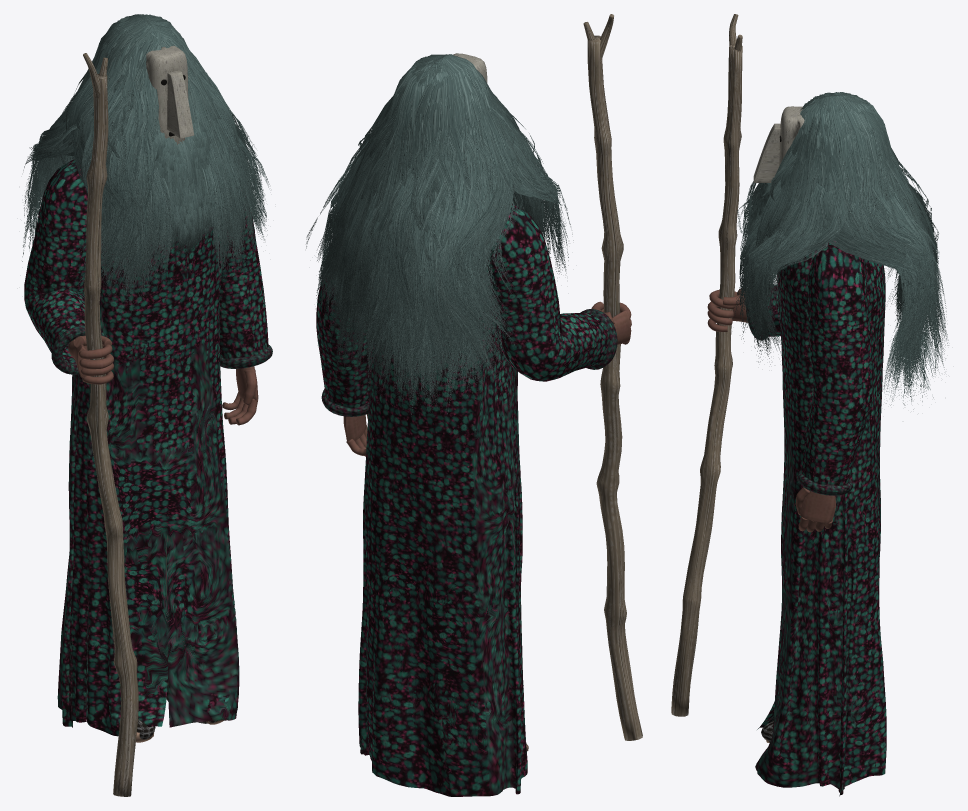
File: keyumars.glb
3 renders of one model, left to right at view 1: azimuth 30°, elevation 25°; view 2: azimuth 150°, elevation 25°; view 3: azimuth 270°, elevation 25°, orthographic. The views are drawn at different scales.
Visible parts, largest first — view 1: Robe, HairCards.001, Staff, Sleeve.001, HairCards, BeardCards, HairCards.002, Sleeve, StoneMask, StoneMaskNose, Cuff.001, Cuff; view 2: Robe, HairCards.001, HairCards.002, Sleeve.001, Staff, HairCards, Sleeve, Cuff.001; view 3: Robe, HairCards.001, Sleeve, Staff, HairCards.002, HairCards, StoneMaskNose, Palm, StoneMask, Cuff.
Boxes of the visible parts, left/top/right/bottom form: Robe: left=57, top=225, right=239, bottom=736; HairCards.001: left=22, top=14, right=269, bottom=300; Staff: left=84, top=74, right=138, bottom=796; Sleeve.001: left=24, top=159, right=87, bottom=363; HairCards: left=42, top=44, right=247, bottom=313; BeardCards: left=149, top=104, right=212, bottom=257; HairCards.002: left=26, top=14, right=261, bottom=270; Sleeve: left=219, top=196, right=268, bottom=358; StoneMask: left=146, top=45, right=188, bottom=144; StoneMaskNose: left=167, top=70, right=194, bottom=138; Cuff.001: left=51, top=325, right=105, bottom=374; Cuff: left=220, top=345, right=272, bottom=368; Robe: left=358, top=265, right=527, bottom=796; HairCards.001: left=306, top=54, right=573, bottom=416; HairCards.002: left=319, top=54, right=563, bottom=421; Sleeve.001: left=487, top=204, right=608, bottom=381; Staff: left=587, top=35, right=642, bottom=740; HairCards: left=337, top=182, right=546, bottom=415; Sleeve: left=316, top=238, right=372, bottom=408; Cuff.001: left=581, top=309, right=617, bottom=369; Robe: left=755, top=241, right=886, bottom=796; HairCards.001: left=734, top=92, right=948, bottom=405; Sleeve: left=801, top=244, right=873, bottom=485; Staff: left=671, top=45, right=742, bottom=716; HairCards.002: left=737, top=93, right=942, bottom=359; HairCards: left=744, top=201, right=921, bottom=405; StoneMaskNose: left=753, top=123, right=780, bottom=182; Palm: left=800, top=490, right=835, bottom=522; StoneMask: left=779, top=106, right=804, bottom=165; Cuff: left=797, top=470, right=852, bottom=495.
Size of the model in its own units: 0.6977 by 1.94 by 0.7124.
Materials: 6 (6 with a texture image).
